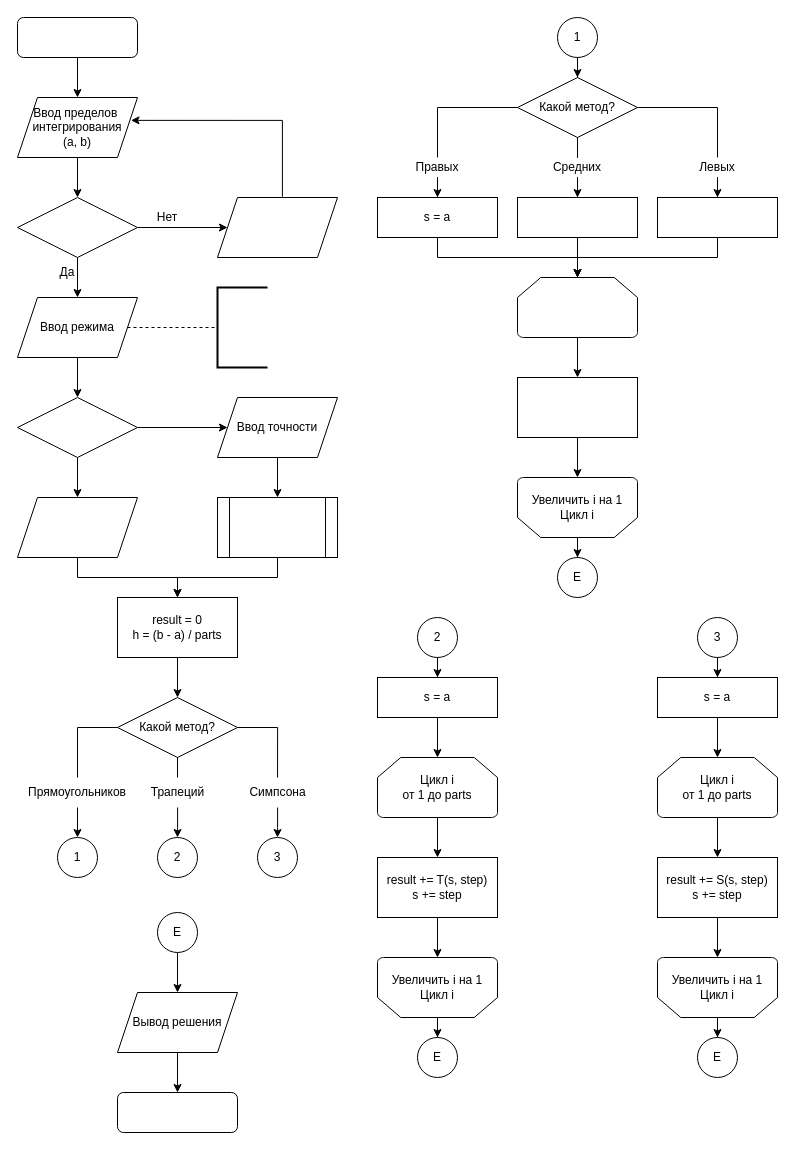
Image size: 795x1150. Some labels were removed from this diagram. The shapes that lost their labels are listed below. From the top down, each one's box as (x1, y1, x2, y2) in pixels, then its label:
(16, 16, 138, 58): Запуск
(16, 196, 138, 258): a < b
(216, 196, 338, 258): Вывод ошибки
(516, 196, 638, 238): s = a + step / 2
(656, 196, 778, 238): s = a + step
(216, 286, 268, 368): по точности или по количеству разбиений
(516, 276, 638, 338): Цикл i от 1 до parts – 1
(16, 396, 138, 458): Режим по количеству?
(516, 376, 638, 438): result += f(s) * step s += step
(16, 496, 138, 558): Ввод parts: количества разбиений
(216, 496, 338, 558): Расчёт parts: количества разбиений
(116, 1092, 238, 1132): Останов
